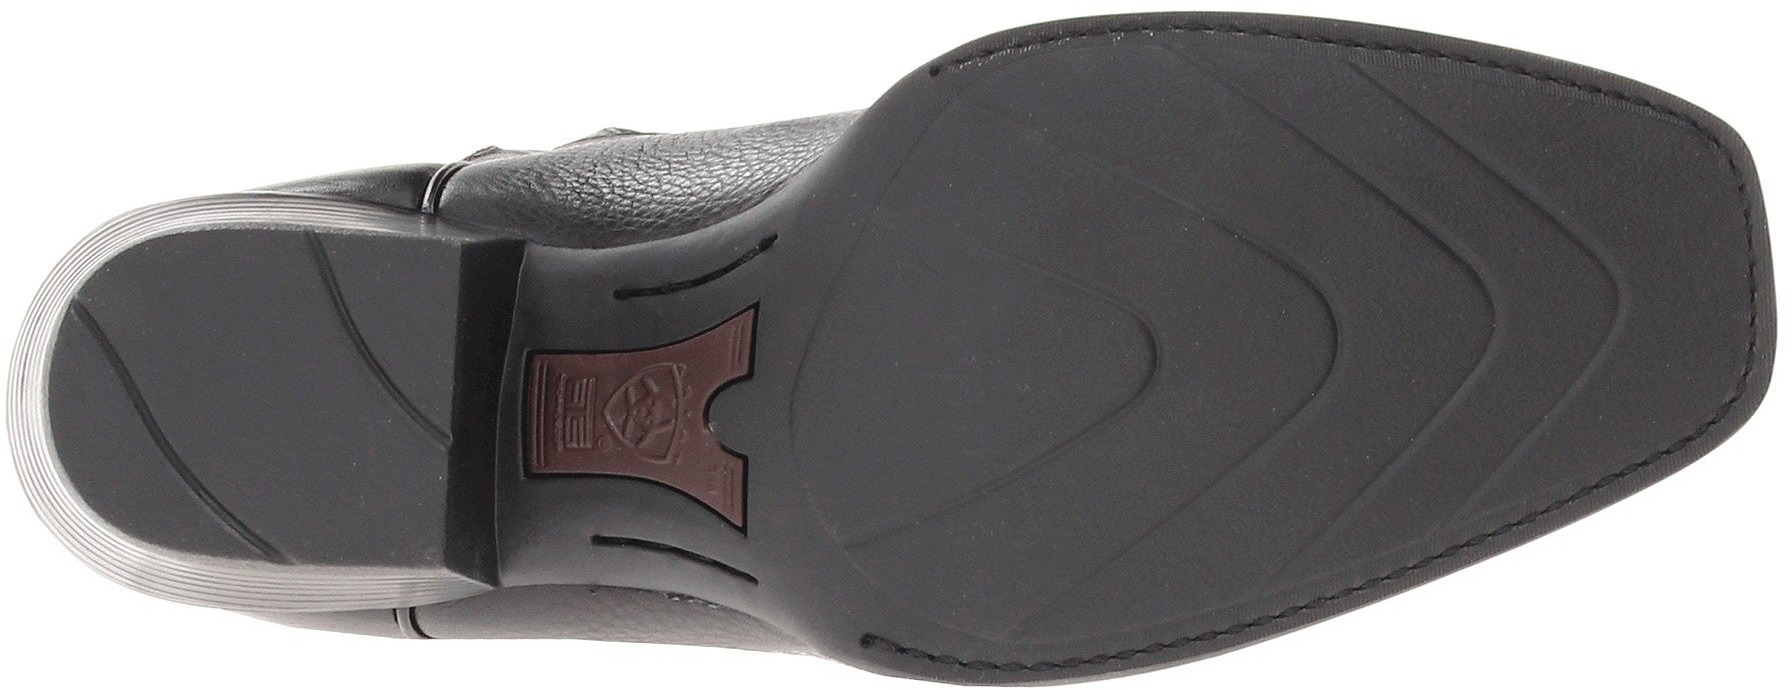chevron: (801, 51, 1705, 660), (1061, 89, 1462, 448), (1481, 144, 1703, 369)
exclude: (507, 125, 832, 647)
